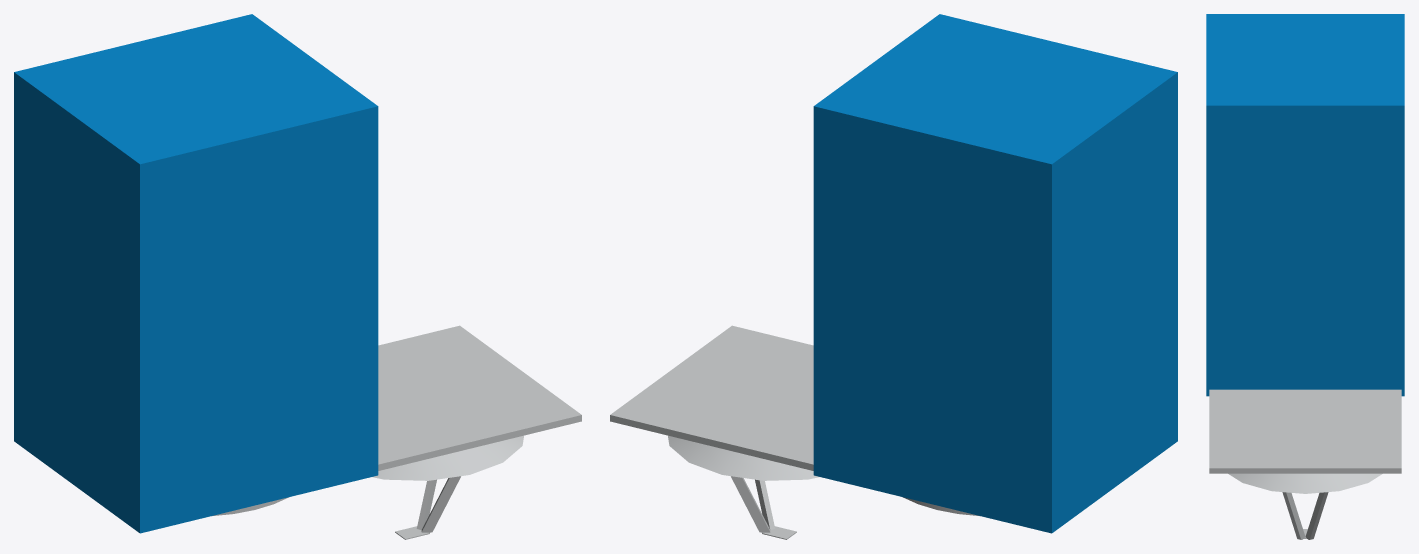
The model's file is SkySat_forWeb.obj.
3 views of the same model, side by side, from view 1: azimuth 30°, elevation 25°; view 2: azimuth 150°, elevation 25°; view 3: azimuth 270°, elevation 25° (orthographic). The views are drawn at different scales.
Parts seen in each view (by area): view 1: skysat; view 2: skysat; view 3: skysat.
Part boxes in pixels (box(x1,y1,x2,y2)): skysat: box(14, 14, 581, 539); skysat: box(610, 14, 1177, 539); skysat: box(1206, 14, 1404, 539).
Size of the model in its own units: 313 by 335 by 154.
